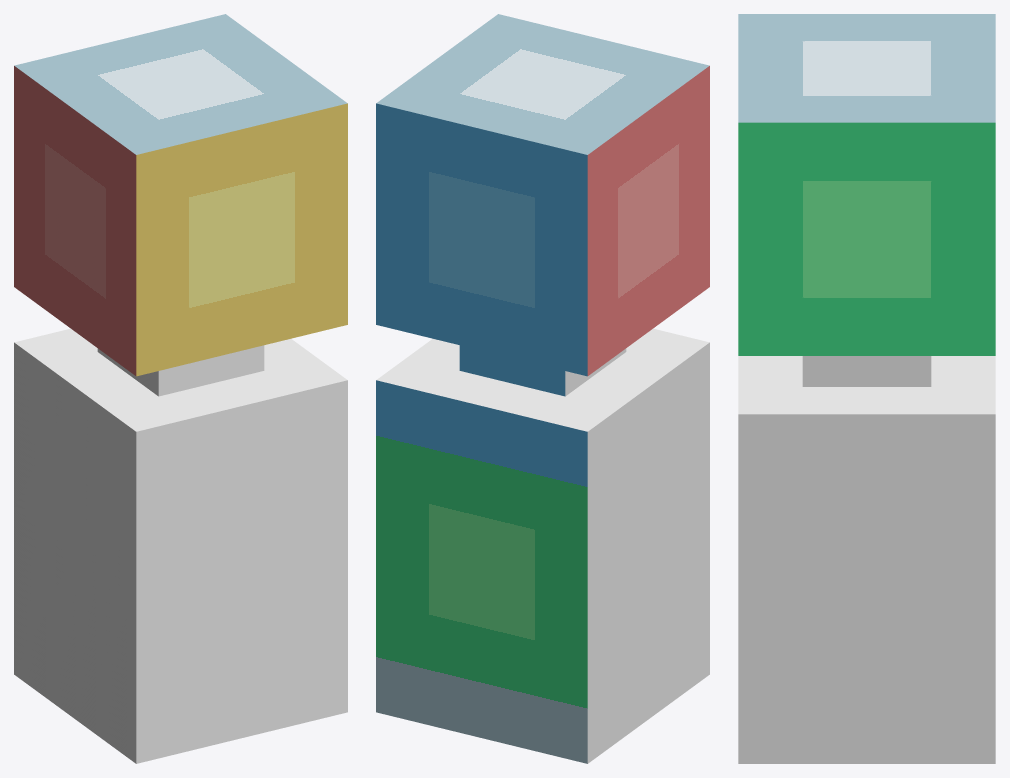
The model's file is character.gltf.
3 views of the same model, side by side, from view 1: azimuth 30°, elevation 25°; view 2: azimuth 150°, elevation 25°; view 3: azimuth 270°, elevation 25° (orthographic). The views are drawn at different scales.
Parts seen in each view (by area): view 1: cube (×3); view 2: cube (×3); view 3: cube (×3).
Boxes of the visible parts, x1,y1,x2,y2 form: cube (×3): [14, 14, 347, 763]; cube (×3): [376, 14, 709, 763]; cube (×3): [738, 14, 995, 763].
Size of the model in its own units: 0.25 by 0.6875 by 0.25.
Materials: 3 (1 with a texture image).
